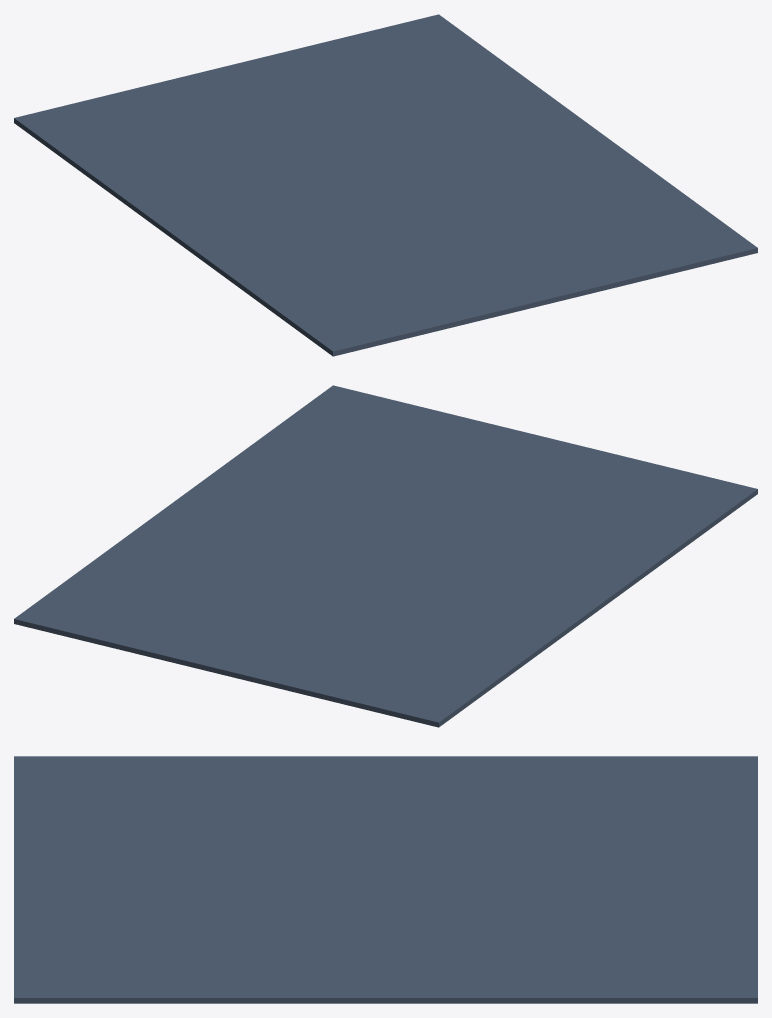
File: floor_001_f_ab45724127.obj
The picture shows the model from 3 angles, top to bottom: view 1: azimuth 30°, elevation 25°; view 2: azimuth 150°, elevation 25°; view 3: azimuth 270°, elevation 25°; orthographic projection. The views are drawn at different scales.
Visible parts, largest first — view 1: Floor_001_f_ab45724127; view 2: Floor_001_f_ab45724127; view 3: Floor_001_f_ab45724127.
Boxes of the visible parts, x1,y1,x2,y2 form: Floor_001_f_ab45724127: [14, 14, 757, 356]; Floor_001_f_ab45724127: [14, 385, 757, 727]; Floor_001_f_ab45724127: [14, 756, 757, 1003].
Size of the model in its own units: 17.68 by 0.2 by 23.
